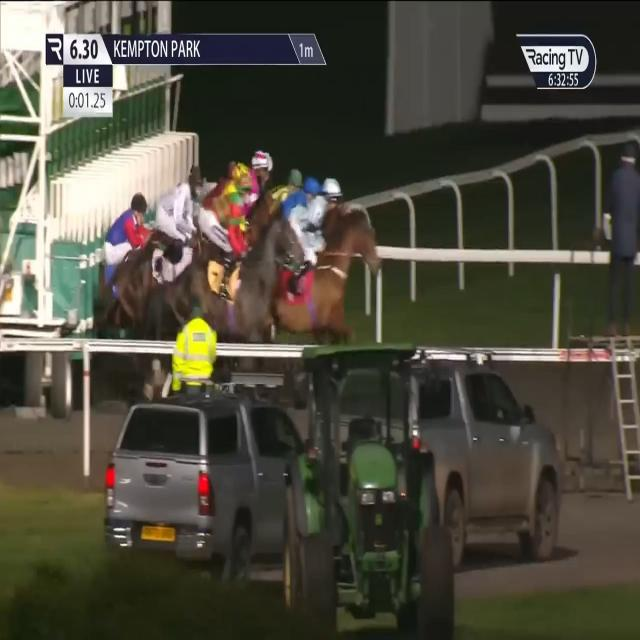horses-racing: (288, 177, 378, 345), (104, 195, 159, 311), (157, 156, 207, 271), (270, 174, 325, 276), (210, 170, 255, 281), (268, 160, 306, 222), (244, 140, 272, 210), (211, 158, 234, 192), (231, 159, 252, 177)
